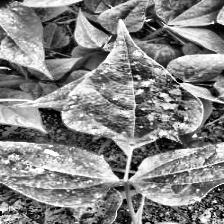Bean Rust: (67, 31, 208, 147), (0, 138, 112, 207), (136, 140, 224, 205), (0, 168, 56, 224)
